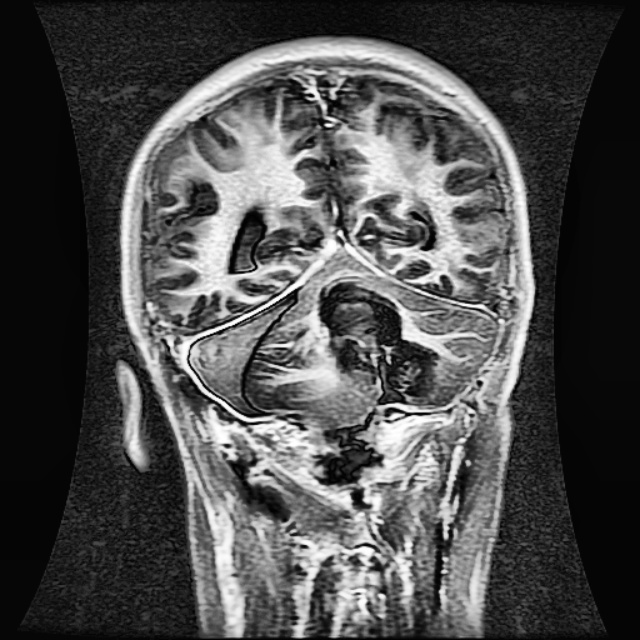Meningioma: (307, 269, 444, 407)
